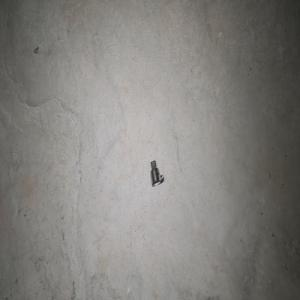MetalPart: (150, 159, 164, 186)
